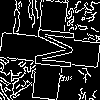M: (25, 25, 75, 71)
